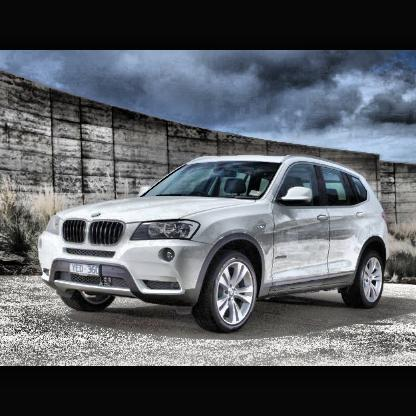BMW X3 SUV 2012: (38, 153, 392, 333)
